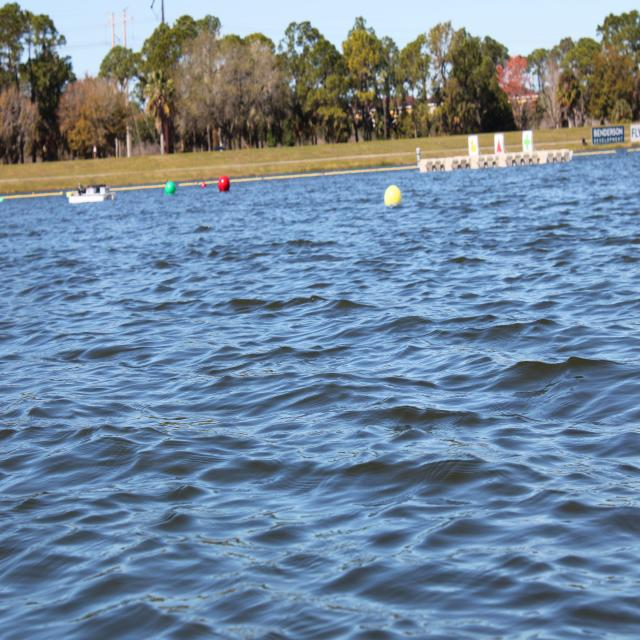blue-cross: (520, 132, 532, 154)
green-buoy: (163, 183, 174, 199)
red-buoy: (218, 175, 230, 194)
red-dot: (491, 131, 504, 159)
yellow-buoy: (382, 187, 400, 210)
yellow-duck: (468, 138, 476, 158)
